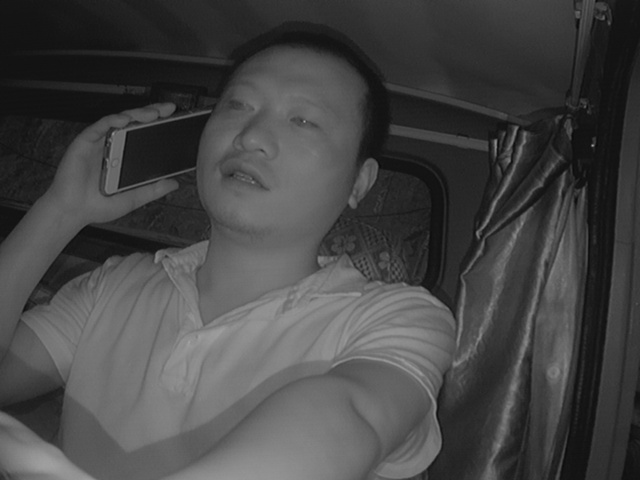hand: (56, 98, 181, 225)
